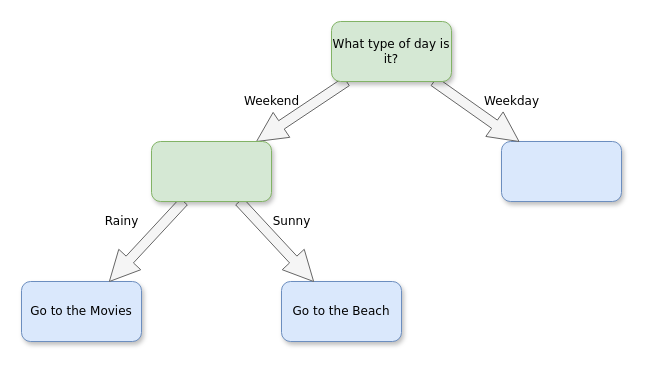
This 645x366 diagram has some shape labels left out. Each missing label, with the centre of its shape:
"Watch Netflix" goes at (x=562, y=172).
"What's the weather?" goes at (x=212, y=172).
